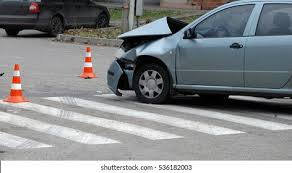car: (109, 1, 292, 99), (1, 1, 111, 31)
cone: (4, 65, 30, 103), (79, 46, 96, 79)
